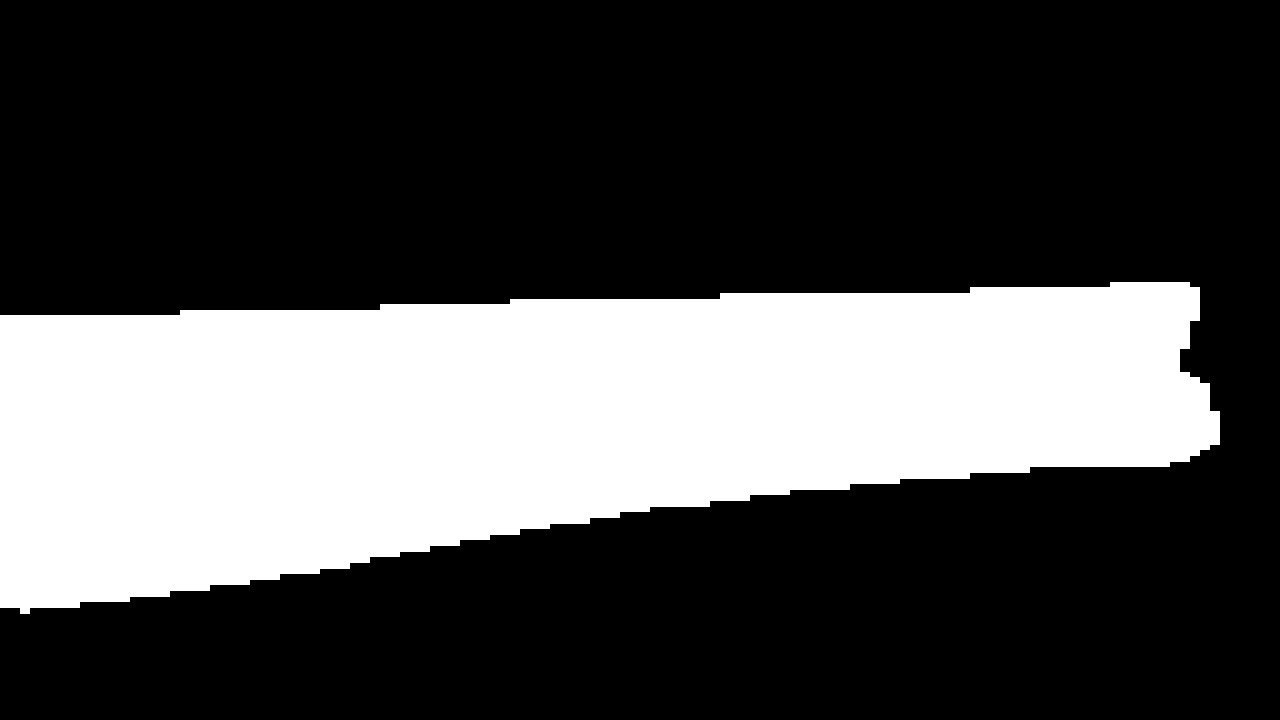Turbine: (11, 267, 1212, 616)
